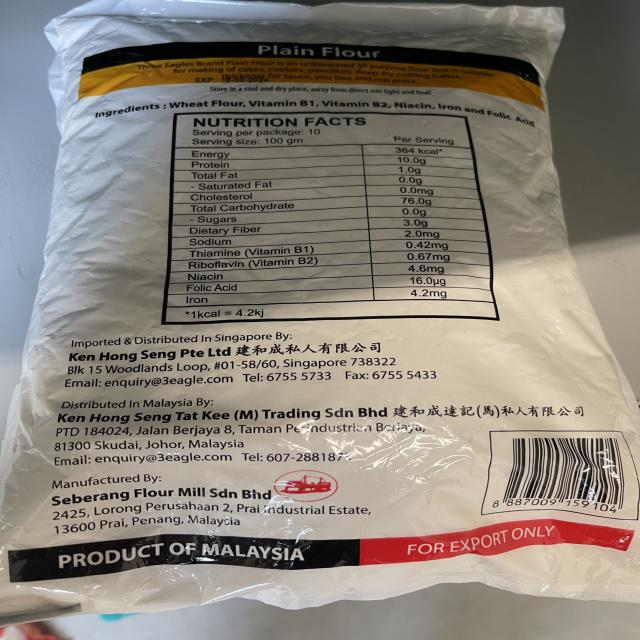object_name: (50, 6, 634, 600)
